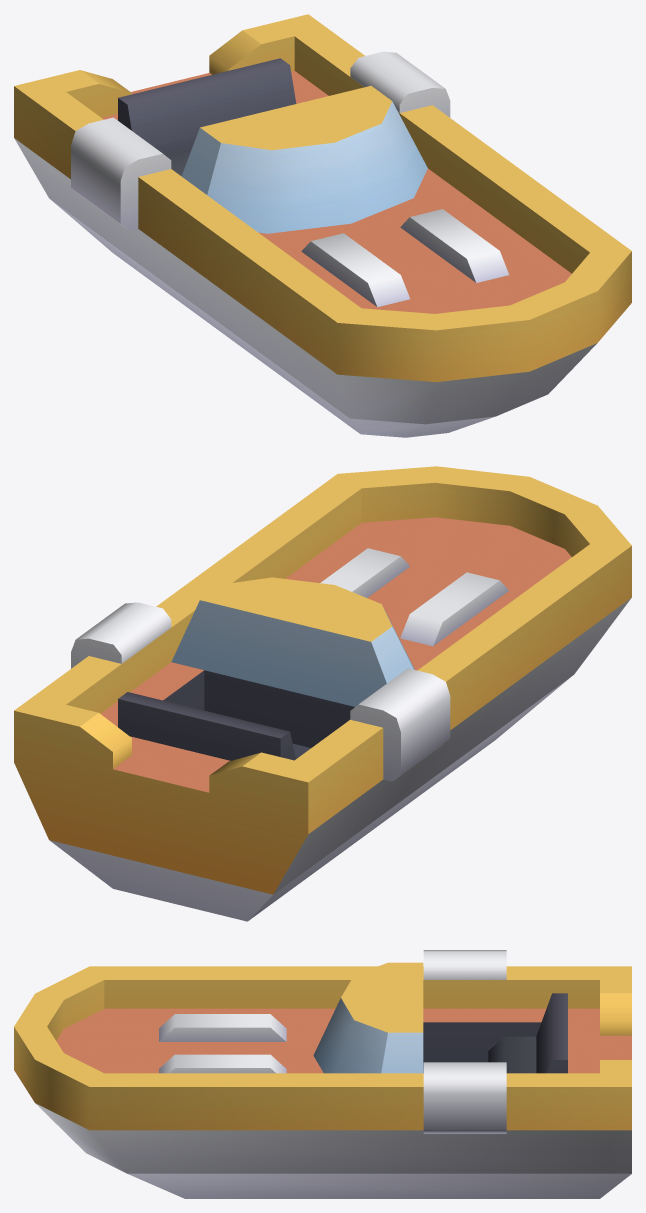
The model's file is boat-speed-d-transformed.glb.
3 renders of one model, top to bottom at view 1: azimuth 30°, elevation 25°; view 2: azimuth 150°, elevation 25°; view 3: azimuth 270°, elevation 25°, orthographic. The views are drawn at different scales.
Visible parts, largest first — view 1: boat-speed-d; view 2: boat-speed-d; view 3: boat-speed-d.
Boxes of the visible parts, x1,y1,x2,y2 form: boat-speed-d: [14, 14, 631, 437]; boat-speed-d: [14, 466, 631, 921]; boat-speed-d: [14, 950, 631, 1198].
Bounding box in the file's own units: 2 × 1.2 × 3.87.
1 material, 1 textured.
